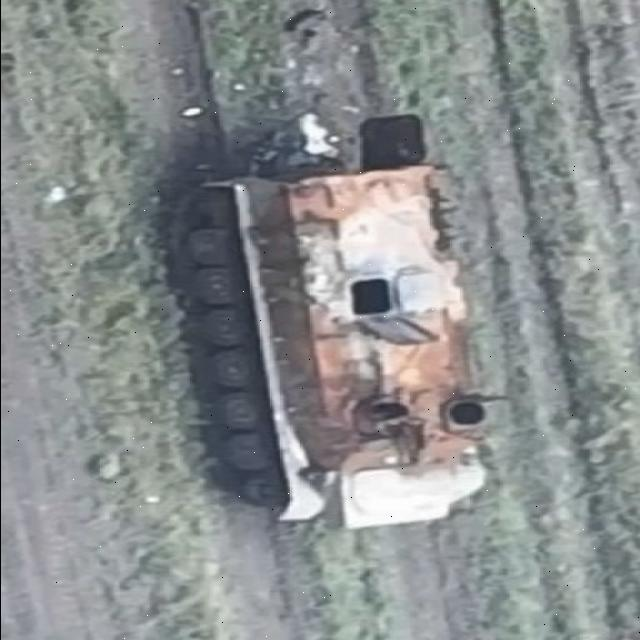APC-IFV: (172, 91, 516, 530)
